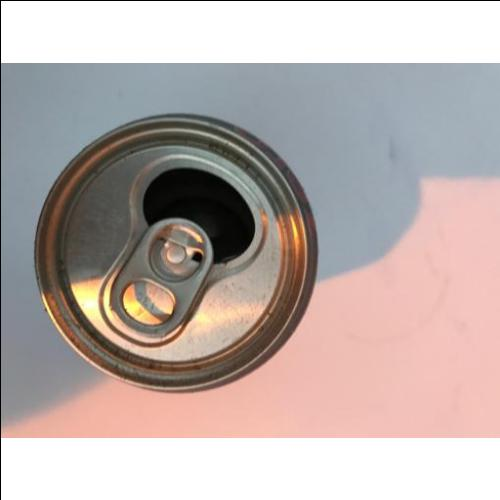metal: (36, 115, 319, 395)
